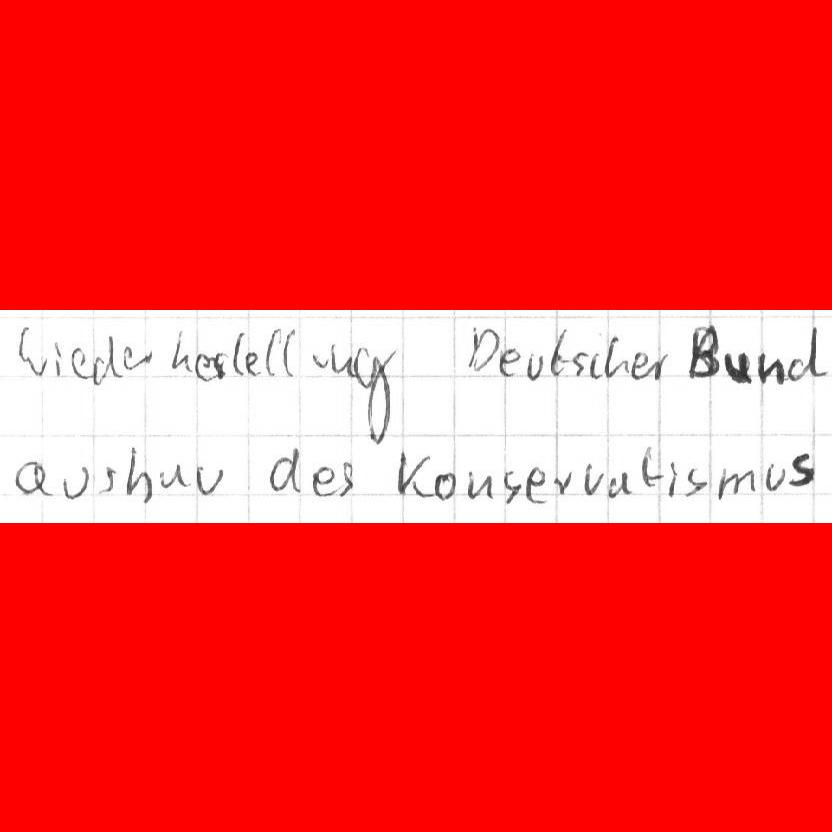Char: (363, 348, 396, 441), (786, 325, 824, 383), (686, 320, 721, 380), (266, 443, 304, 497), (11, 456, 55, 497), (465, 323, 498, 376), (123, 447, 153, 502), (396, 447, 428, 498), (713, 464, 755, 501), (91, 333, 116, 386), (15, 322, 39, 372), (602, 335, 627, 381), (722, 348, 752, 386), (194, 461, 225, 497), (60, 464, 88, 501), (639, 445, 661, 492), (549, 325, 567, 380), (169, 327, 190, 373), (789, 451, 815, 488), (310, 463, 337, 498), (757, 351, 783, 386), (524, 465, 547, 504), (125, 343, 152, 375), (281, 329, 298, 379), (265, 326, 281, 379), (581, 460, 604, 496), (431, 468, 456, 501), (159, 462, 186, 492), (465, 469, 490, 501), (683, 466, 706, 498), (70, 346, 90, 381), (607, 470, 631, 498), (763, 461, 784, 493), (332, 342, 352, 375), (498, 345, 519, 376), (338, 459, 355, 497), (502, 467, 519, 505), (195, 351, 213, 386), (231, 331, 244, 379), (650, 350, 670, 381), (100, 462, 118, 496), (524, 351, 543, 381), (665, 459, 680, 496), (630, 349, 647, 380), (552, 470, 573, 495), (213, 349, 228, 381), (311, 347, 331, 371), (570, 351, 587, 379), (53, 339, 65, 378), (244, 350, 261, 377), (587, 352, 601, 379)
